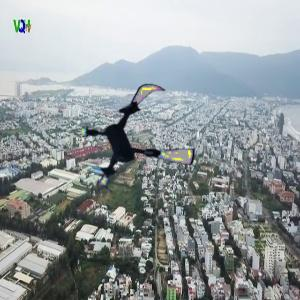drone: (83, 83, 198, 198)
